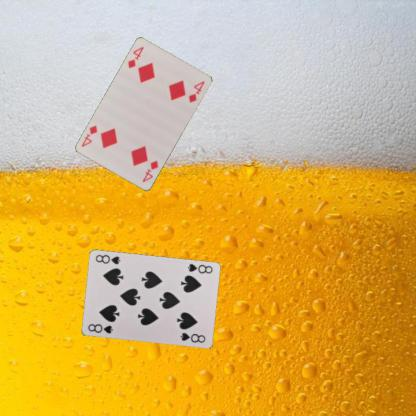4d: (125, 44, 145, 70), (140, 158, 159, 184)
8s: (85, 321, 114, 335), (185, 261, 214, 275)
